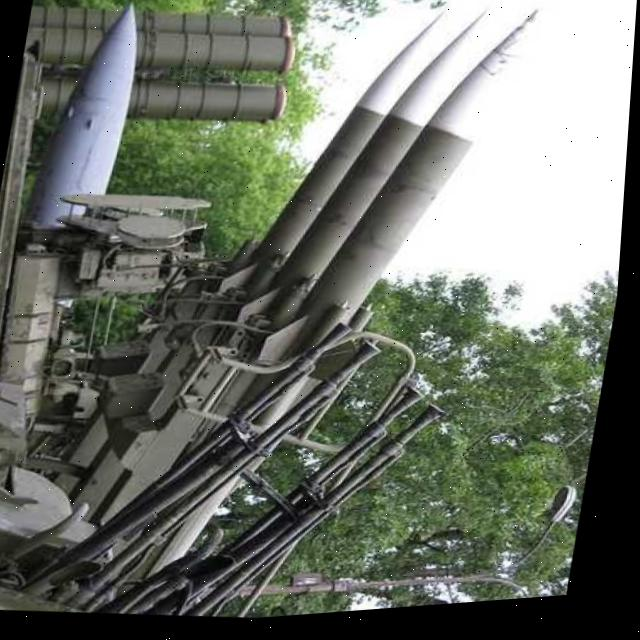missile: (257, 0, 545, 474), (267, 0, 495, 344), (244, 6, 446, 287), (2, 0, 153, 312)
